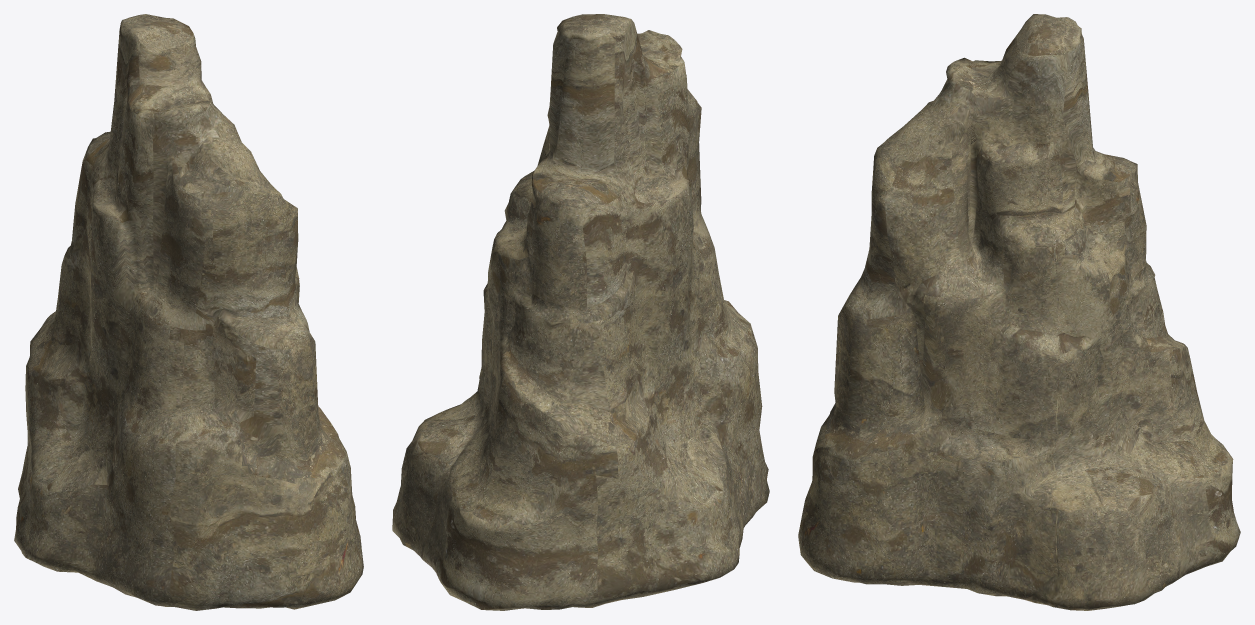
File: saltmine_pillar_medium.dae
3 views of the same model, side by side, from view 1: azimuth 30°, elevation 25°; view 2: azimuth 150°, elevation 25°; view 3: azimuth 270°, elevation 25° (orthographic). The views are drawn at different scales.
Visible parts, largest first — view 1: pillar_medium__3___2_; view 2: pillar_medium__3___2_; view 3: pillar_medium__3___2_.
Boxes of the visible parts, box(x1,y1,x2,y2) form: pillar_medium__3___2_: box(14, 14, 363, 610); pillar_medium__3___2_: box(392, 14, 769, 610); pillar_medium__3___2_: box(798, 14, 1240, 610).
Bounding box in the file's own units: 2.82 × 4.72 × 3.65.
